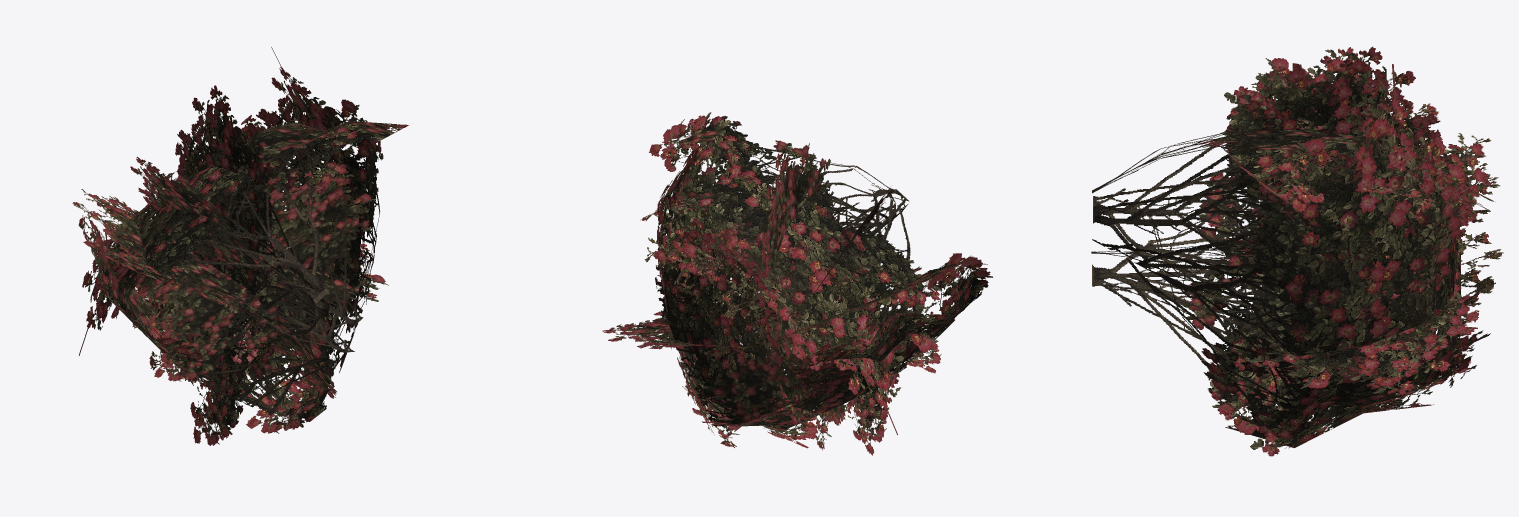
File: fern_2.glb
The picture shows the model from 3 angles, left to right: view 1: azimuth 30°, elevation 25°; view 2: azimuth 150°, elevation 25°; view 3: azimuth 270°, elevation 25°; orthographic projection. The views are drawn at different scales.
Parts seen in each view (by area): view 1: fern_2; view 2: fern_2; view 3: fern_2.
Part boxes in pixels (x1,y1,x2,y2): fern_2: (72,47,408,445); fern_2: (602,112,992,455); fern_2: (1091,46,1503,456).
Bounding box in the file's own units: 1.51 × 1.49 × 1.22.
1 material, 1 textured.
